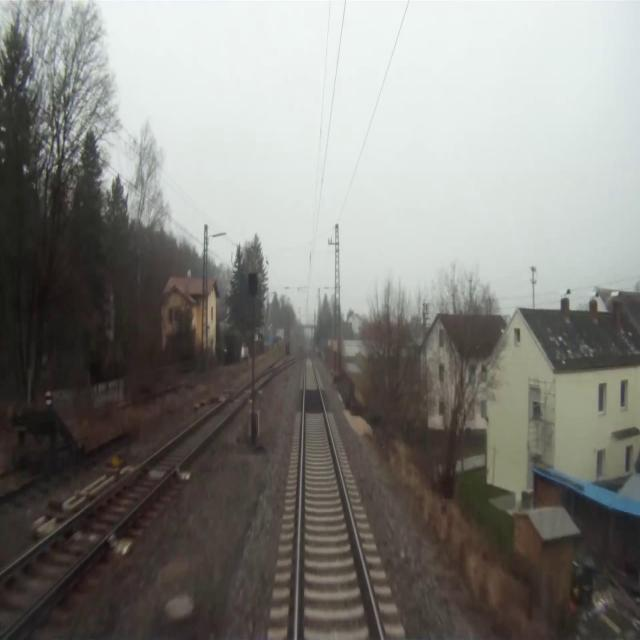rail-track: (0, 384, 251, 631), (297, 356, 378, 639)
